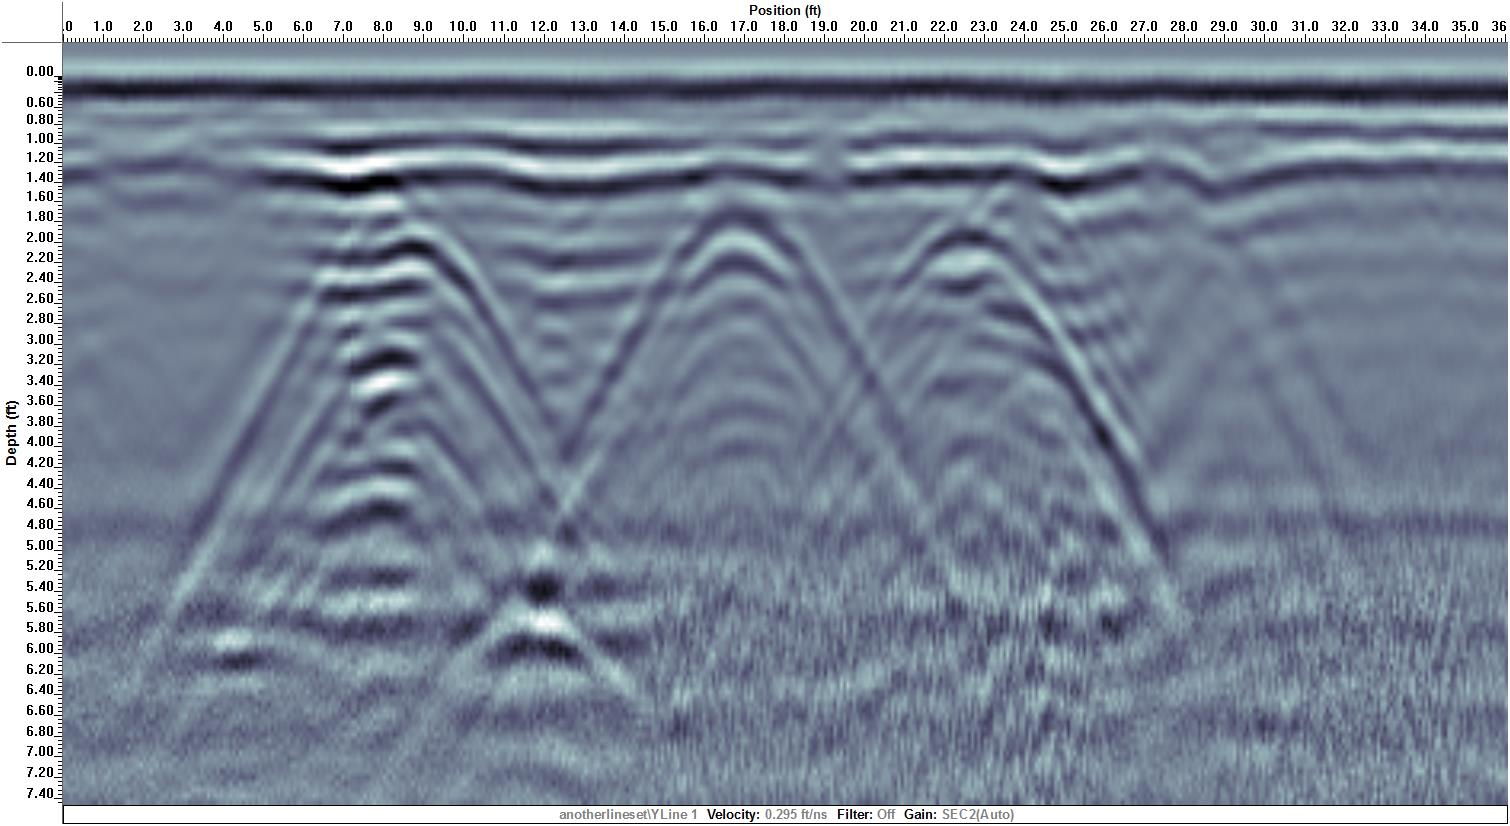hyperbola: (204, 206, 550, 489), (575, 185, 893, 464), (838, 217, 1118, 467)
